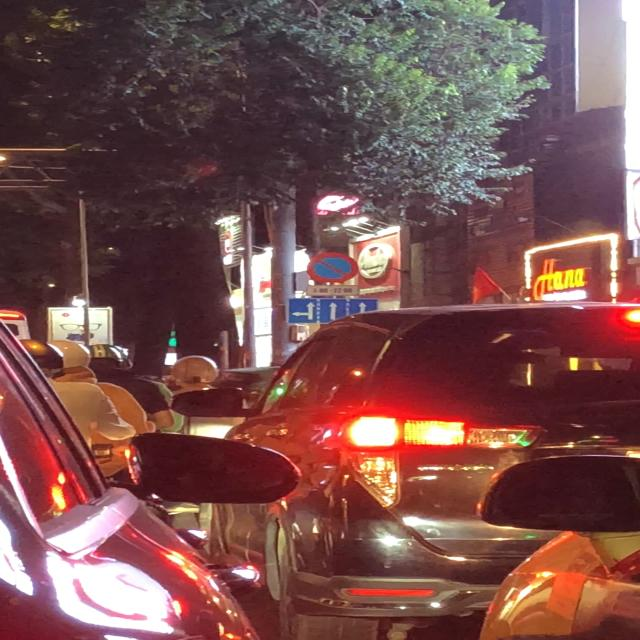Bien bao cam do xe: (306, 251, 362, 285)
